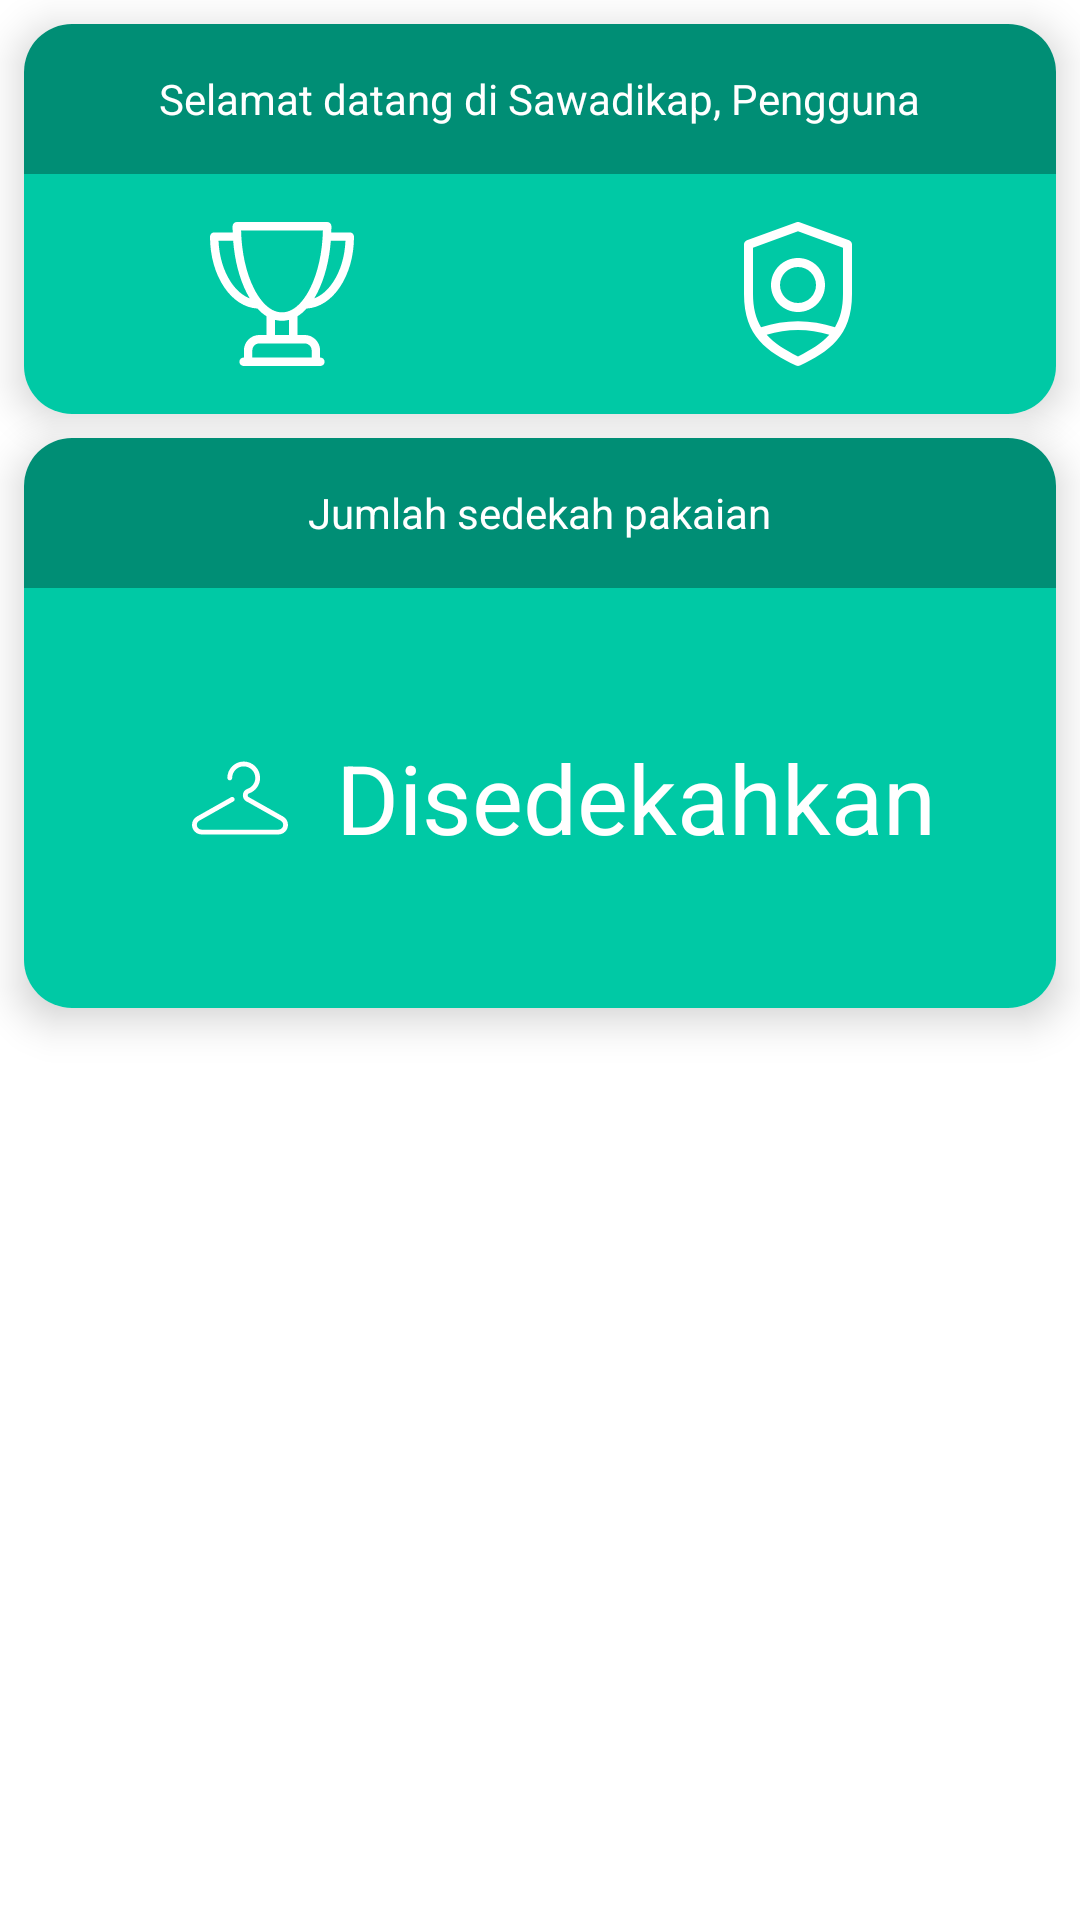

Point at icon controls on the screen. Image size 1080 x 1920, points as (x,y).
hanger: (240,798)
shield: (798,294)
trophy: (282,294)
